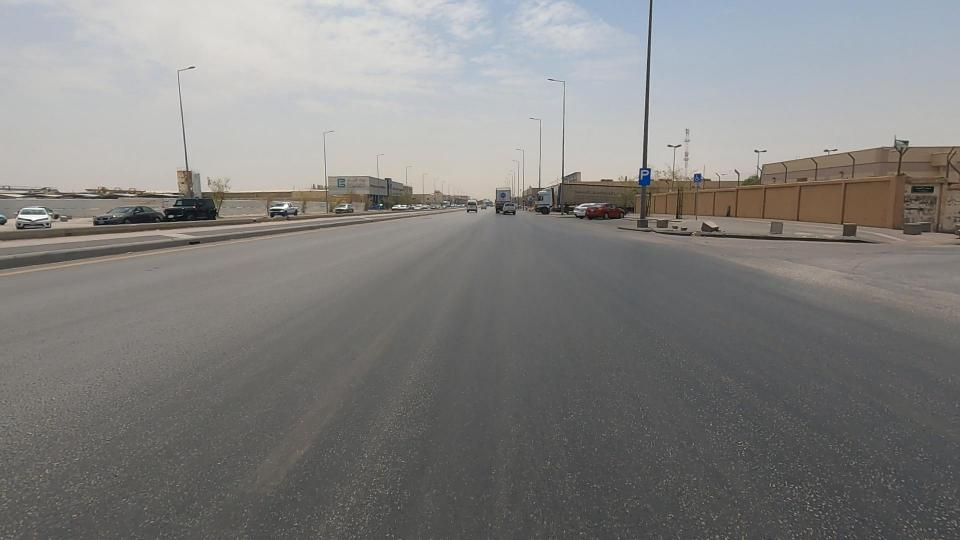BROKEN_SIGNAGE: (668, 205, 751, 252)
